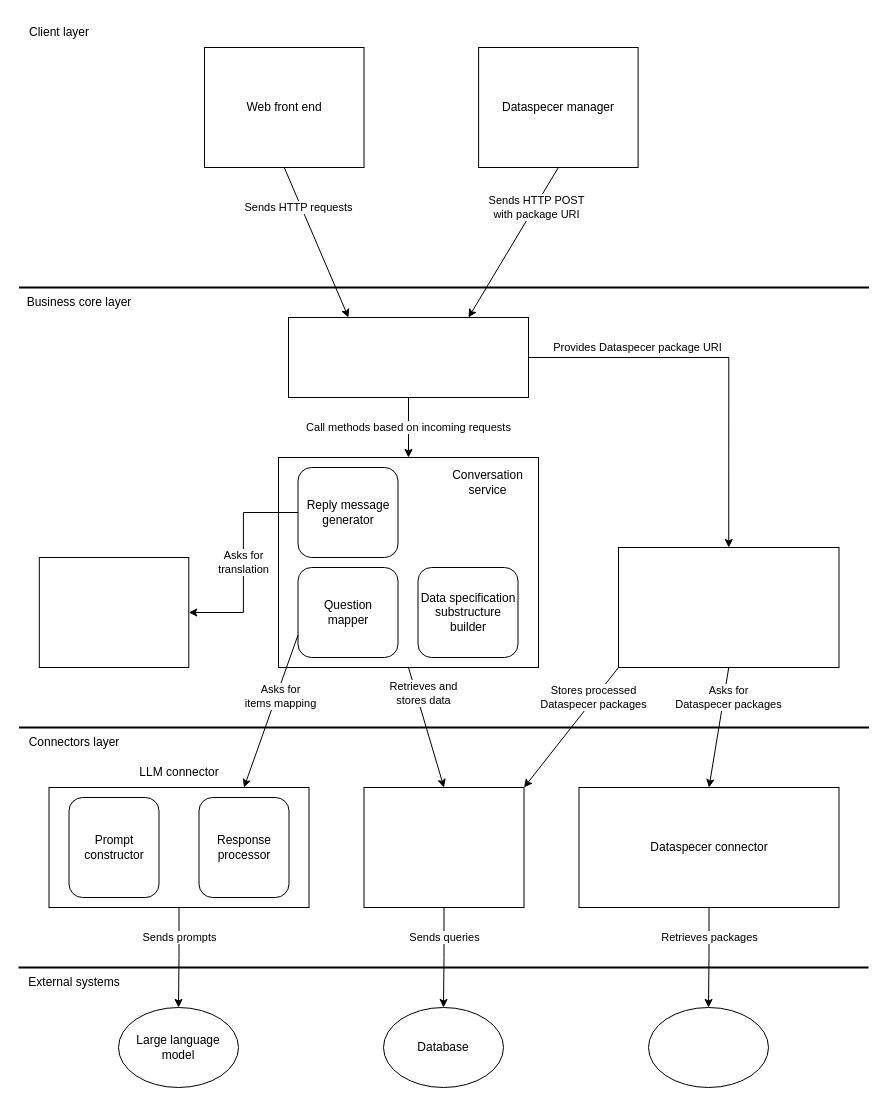
Image size: 888x1105. Some labels were removed from this diagram. Here are the shapes that lost their labels. From the top down, the centre of each, then its label:
(x=408, y=357): Request handler
(x=113, y=612): Sparql translation service
(x=728, y=607): Data specification service
(x=443, y=847): Database connector
(x=708, y=1047): Dataspecer
